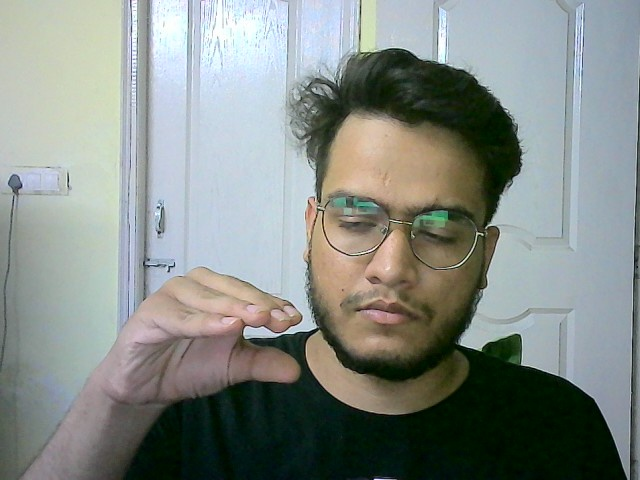No: (92, 265, 308, 406)
